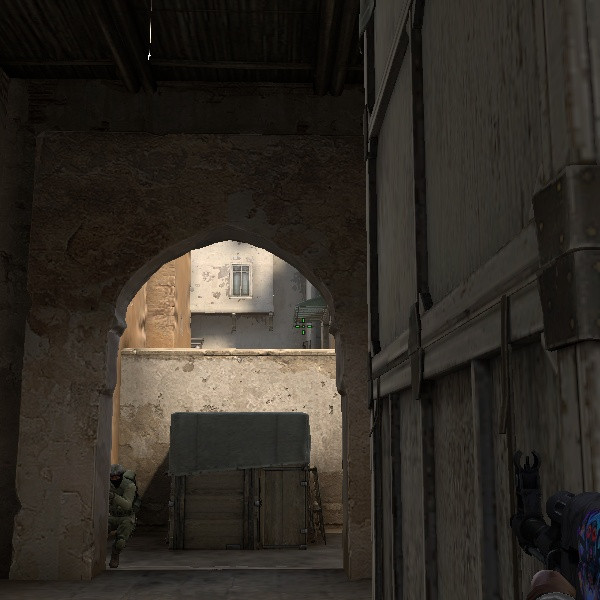ct_body: (106, 462, 141, 569)
ct_head: (109, 463, 126, 486)
